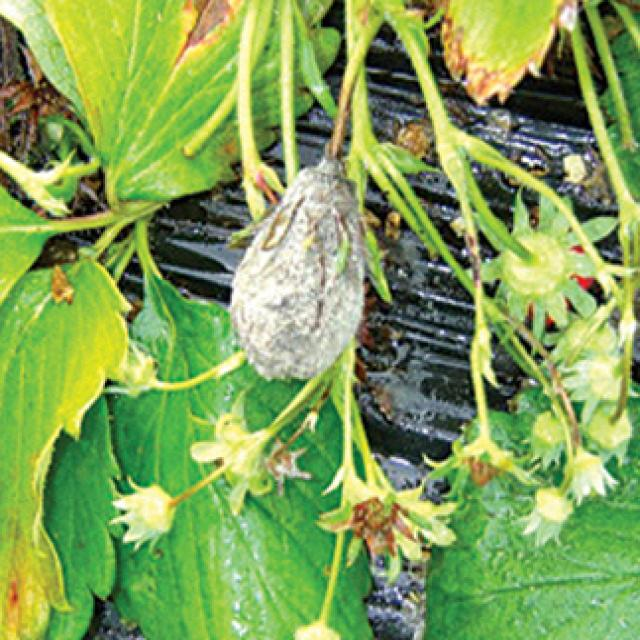Gray Mold: (231, 158, 367, 382)
